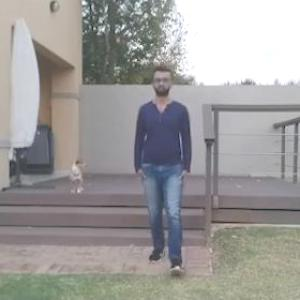follow: (141, 61, 195, 273)
